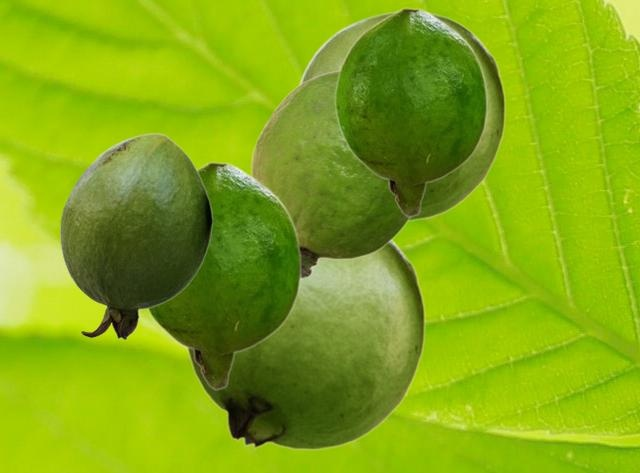guava: (184, 240, 425, 449), (297, 10, 505, 220), (146, 161, 301, 390), (250, 70, 411, 279), (334, 7, 487, 217), (60, 133, 212, 339)
